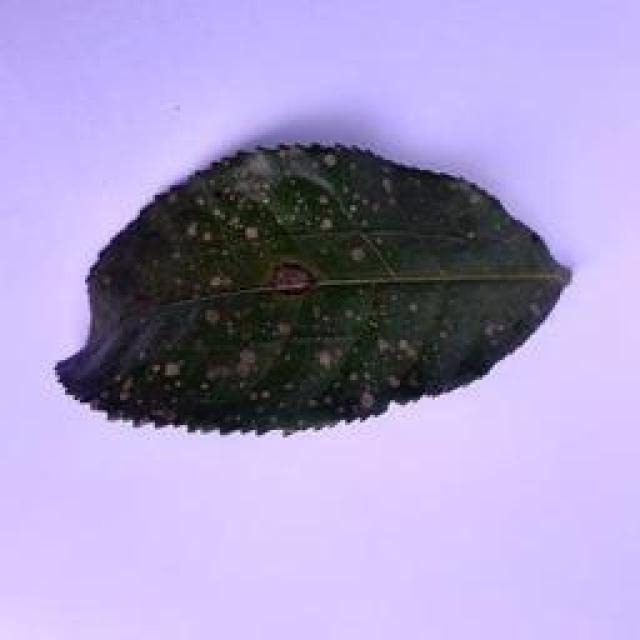Algal Leaf Spot: (37, 131, 560, 441)
